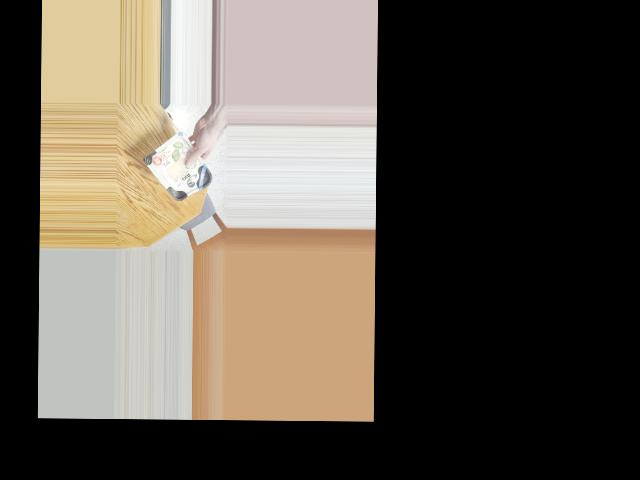cheese: (148, 142, 214, 201)
